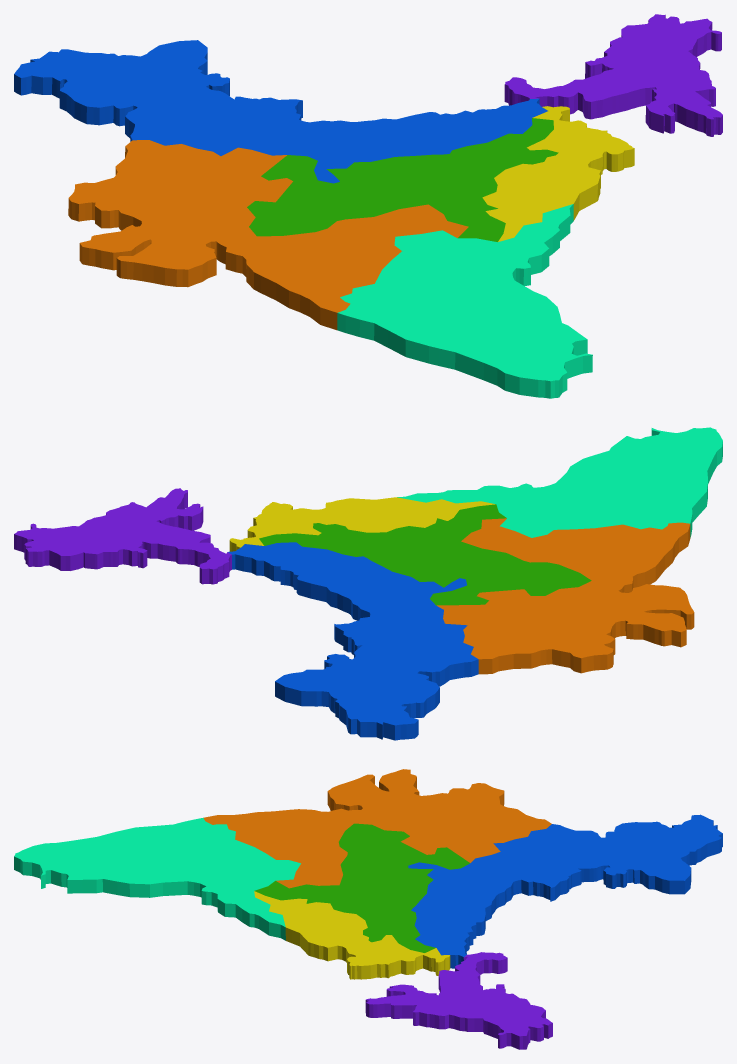
Rendered from PLAIN.glb.
The picture shows the model from 3 angles, top to bottom: view 1: azimuth 30°, elevation 25°; view 2: azimuth 150°, elevation 25°; view 3: azimuth 270°, elevation 25°; orthographic projection. The views are drawn at different scales.
Visible parts, largest first — view 1: 2, 1, 5, 3, 6, 4; view 2: 2, 1, 5, 3, 6, 4; view 3: 1, 2, 5, 3, 6, 4.
Part boxes in pixels (x1=…): 2: x1=68, y1=140, x2=468, y2=330; 1: x1=14, y1=40, x2=547, y2=183; 5: x1=337, y1=204, x2=592, y2=398; 3: x1=247, y1=118, x2=558, y2=241; 6: x1=504, y1=14, x2=722, y2=136; 4: x1=482, y1=106, x2=634, y2=241; 2: x1=437, y1=518, x2=694, y2=674; 1: x1=228, y1=542, x2=478, y2=740; 5: x1=397, y1=427, x2=722, y2=537; 3: x1=259, y1=504, x2=591, y2=605; 6: x1=14, y1=488, x2=231, y2=584; 4: x1=229, y1=497, x2=494, y2=551; 1: x1=408, y1=814, x2=722, y2=968; 2: x1=203, y1=769, x2=551, y2=888; 5: x1=14, y1=818, x2=300, y2=940; 3: x1=254, y1=823, x2=469, y2=952; 6: x1=365, y1=952, x2=552, y2=1049; 4: x1=254, y1=891, x2=450, y2=979.
Bounding box in the file's own units: 4.2 × 0.1283 × 4.74.
